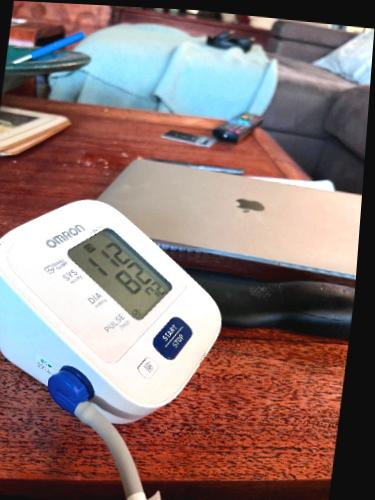bpm: (63, 215, 174, 324)
